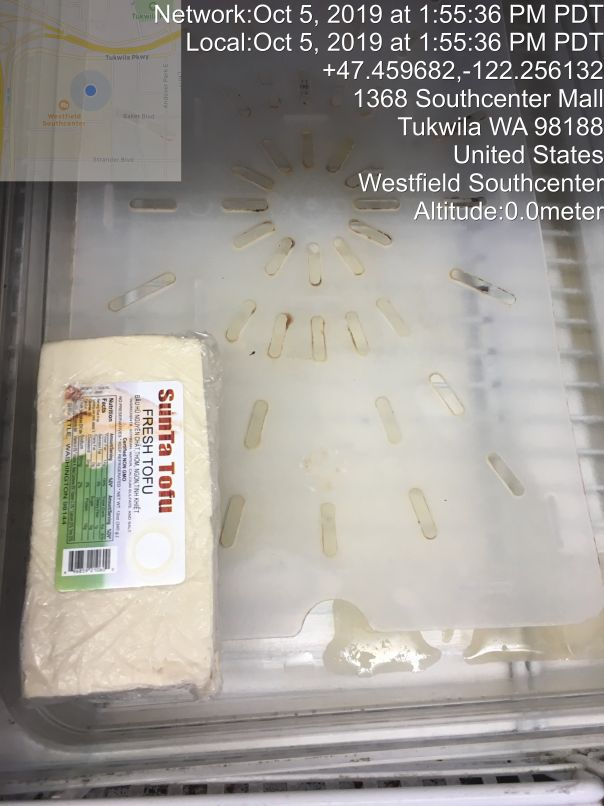Location: (348, 79, 604, 197)
Sunta Tofu: (26, 324, 232, 708)
Time: (140, 2, 604, 61)
Void: (245, 323, 455, 704), (426, 307, 603, 707)
